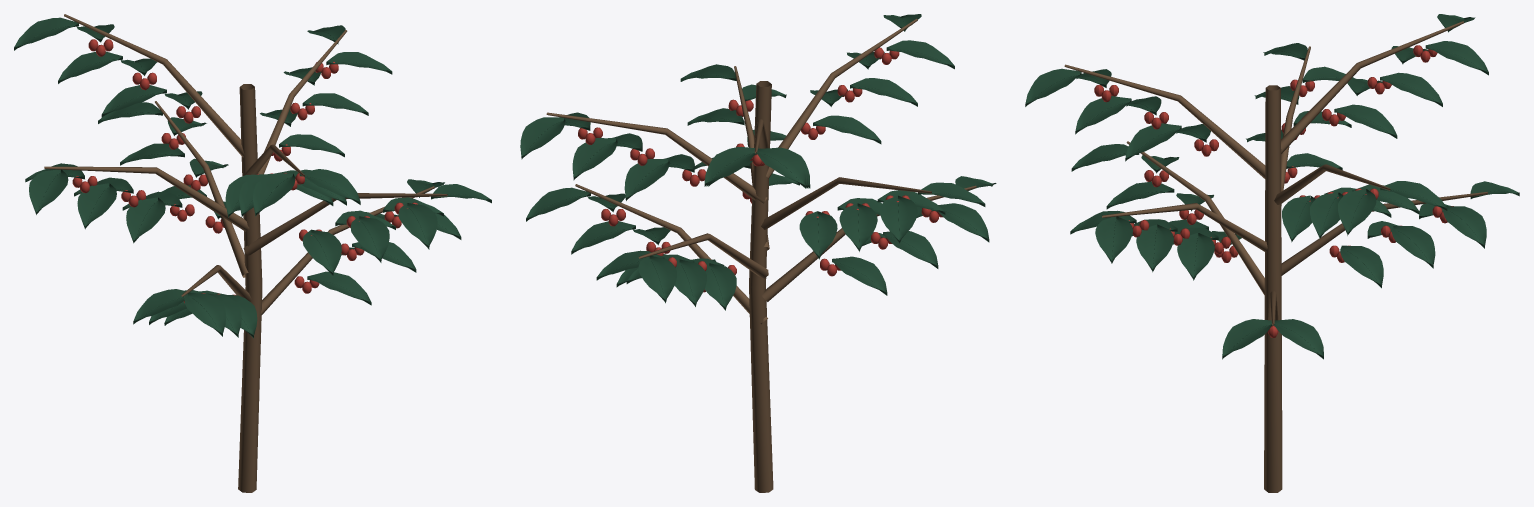
Rendered from cafe_robusta.glb.
3 views of the same model, side by side, from view 1: azimuth 30°, elevation 25°; view 2: azimuth 150°, elevation 25°; view 3: azimuth 270°, elevation 25° (orthographic).
Visible parts, largest first — view 1: cafe_robusta; view 2: cafe_robusta; view 3: cafe_robusta.
Part boxes in pixels (x1,y1,x2,y2): cafe_robusta: (14,14,491,492); cafe_robusta: (520,14,996,492); cafe_robusta: (1025,14,1519,492).
Bounding box in the file's own units: 1.6 × 1.53 × 1.61.
